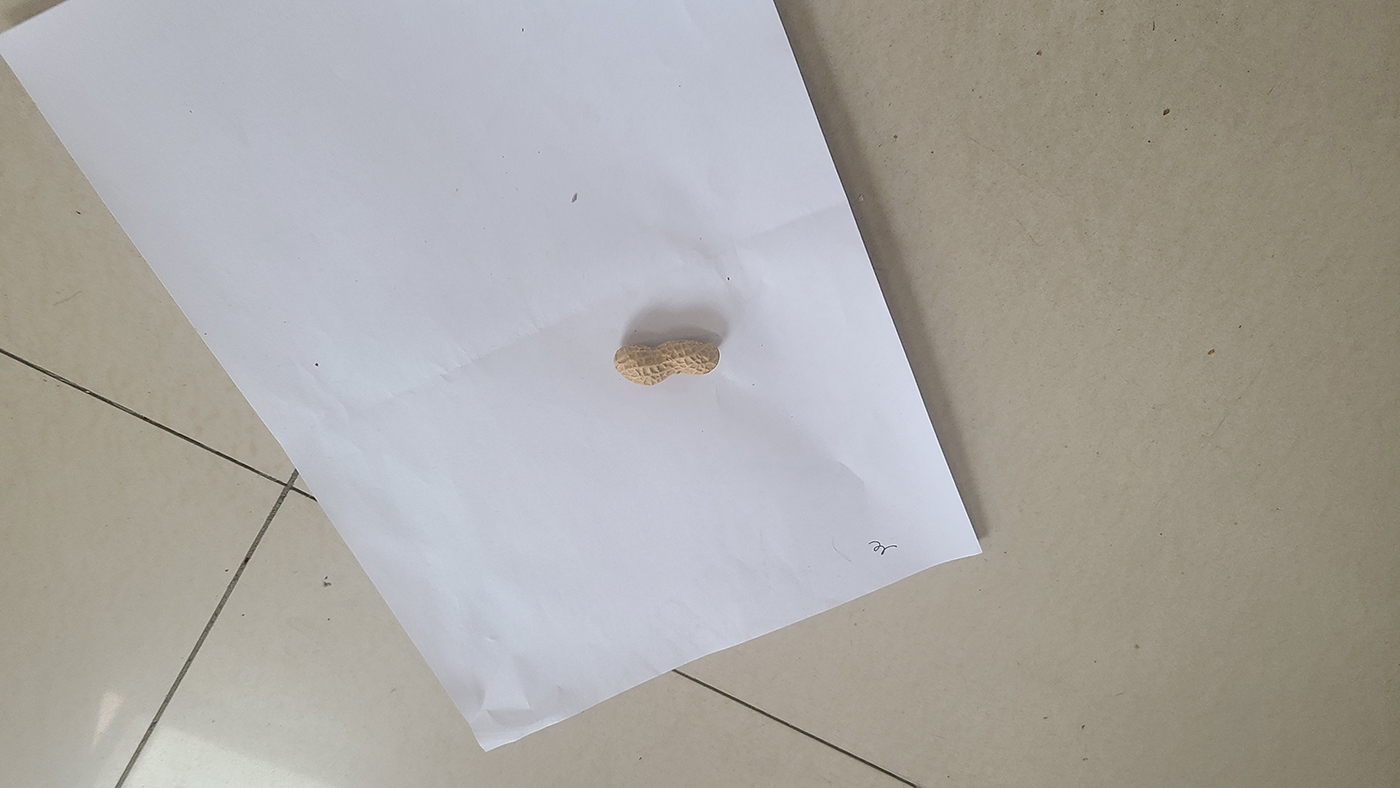h: (613, 338, 720, 385)
